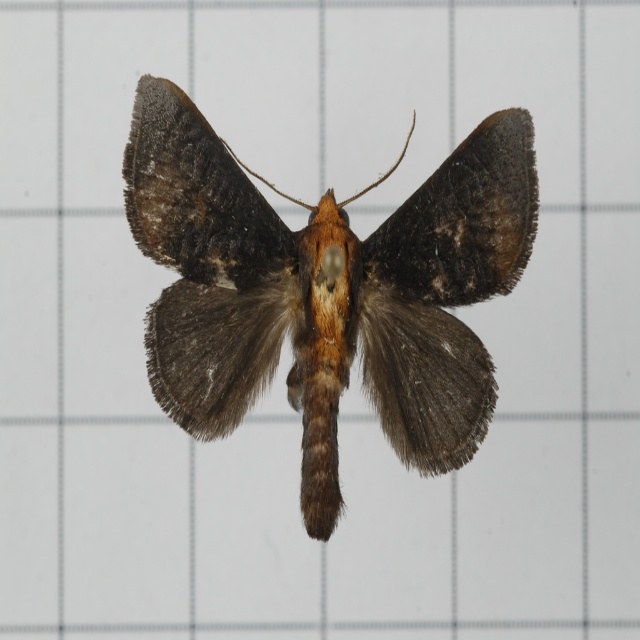Butterfly: (122, 74, 539, 543)
